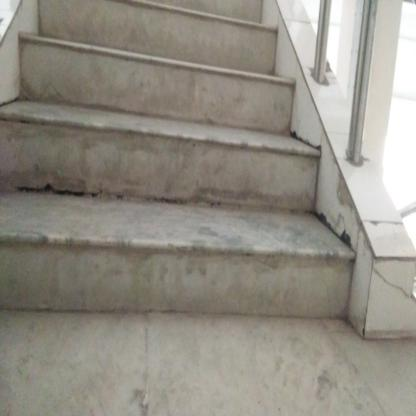stairs: (36, 38, 273, 333)
